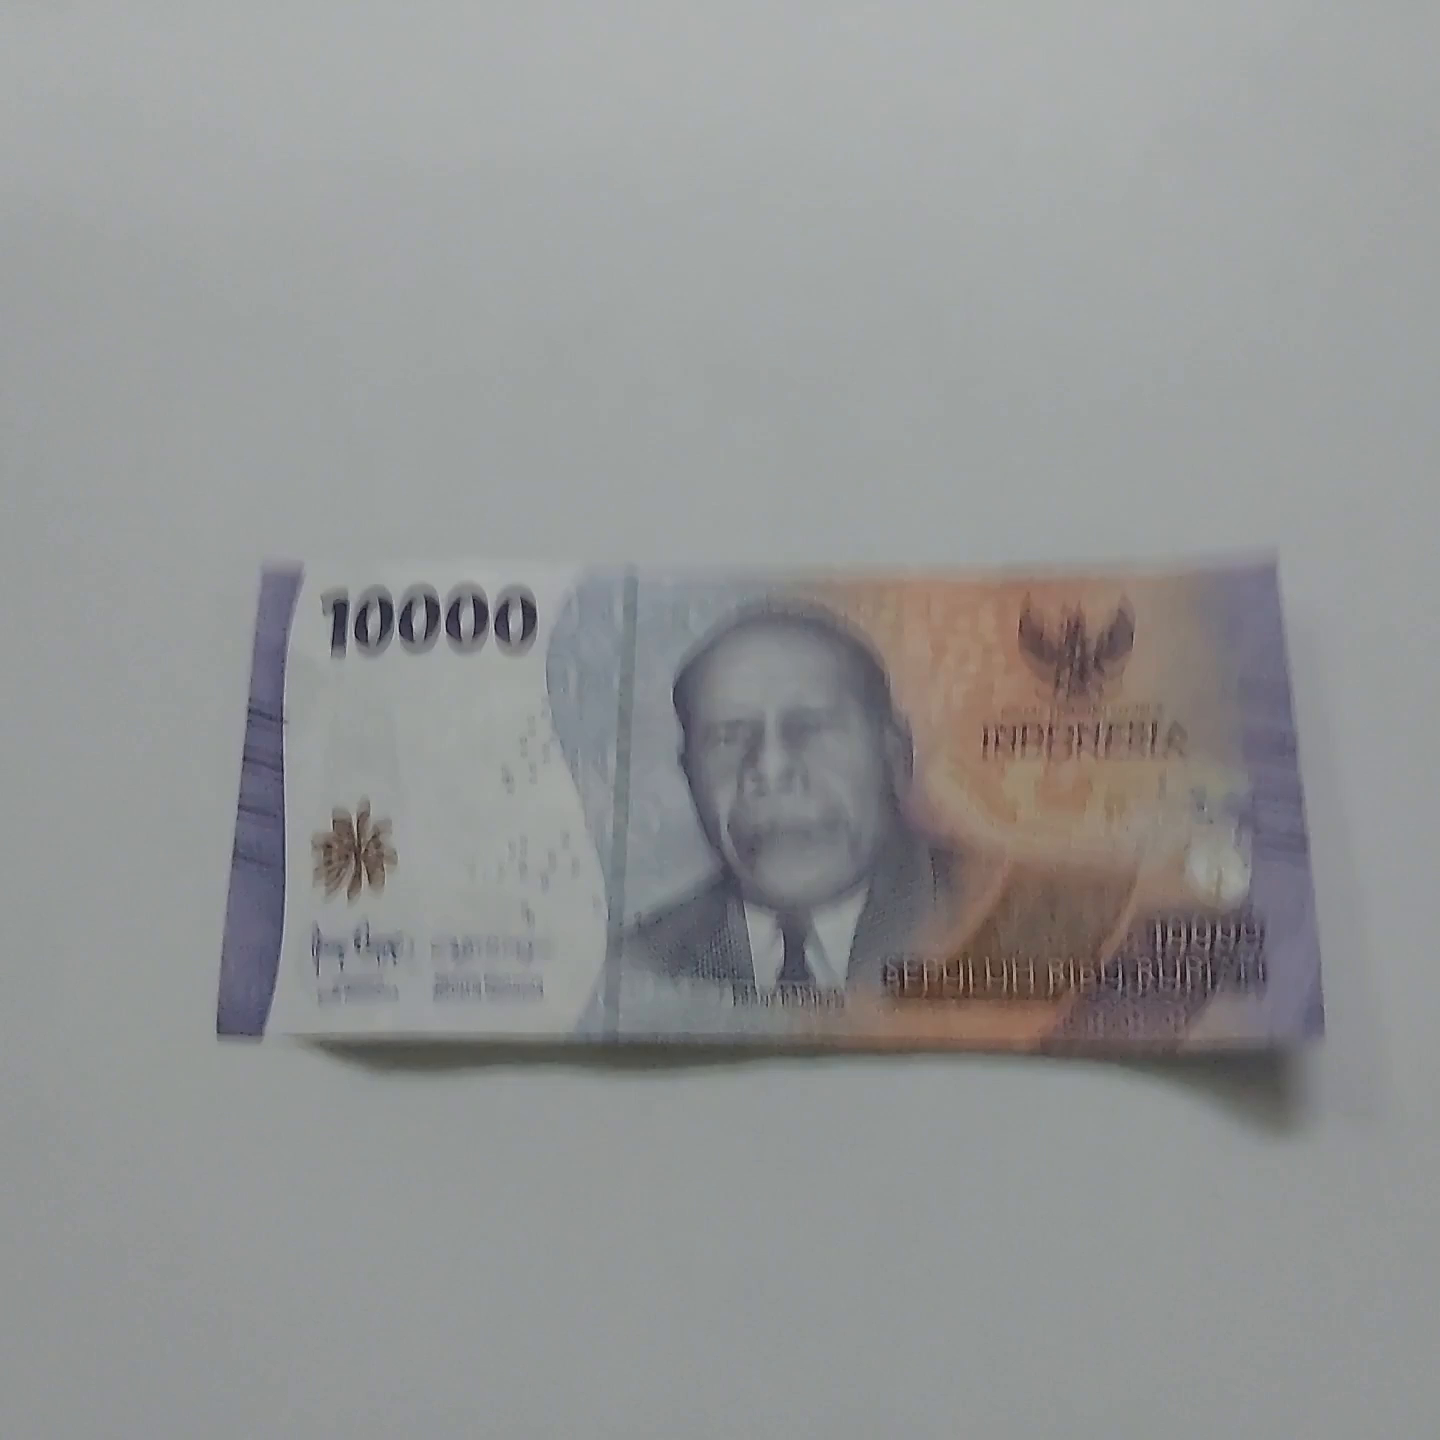10k: (241, 546, 1342, 1083)
